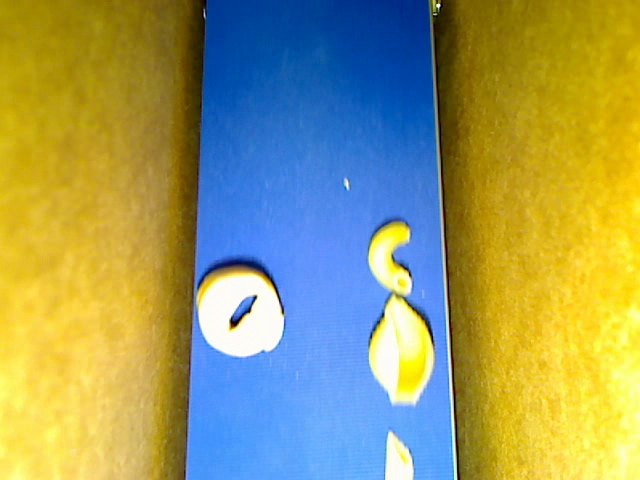elbow: (366, 218, 412, 295)
penne: (384, 429, 413, 479)
shell: (368, 294, 434, 406)
tortellini: (197, 265, 284, 356)
